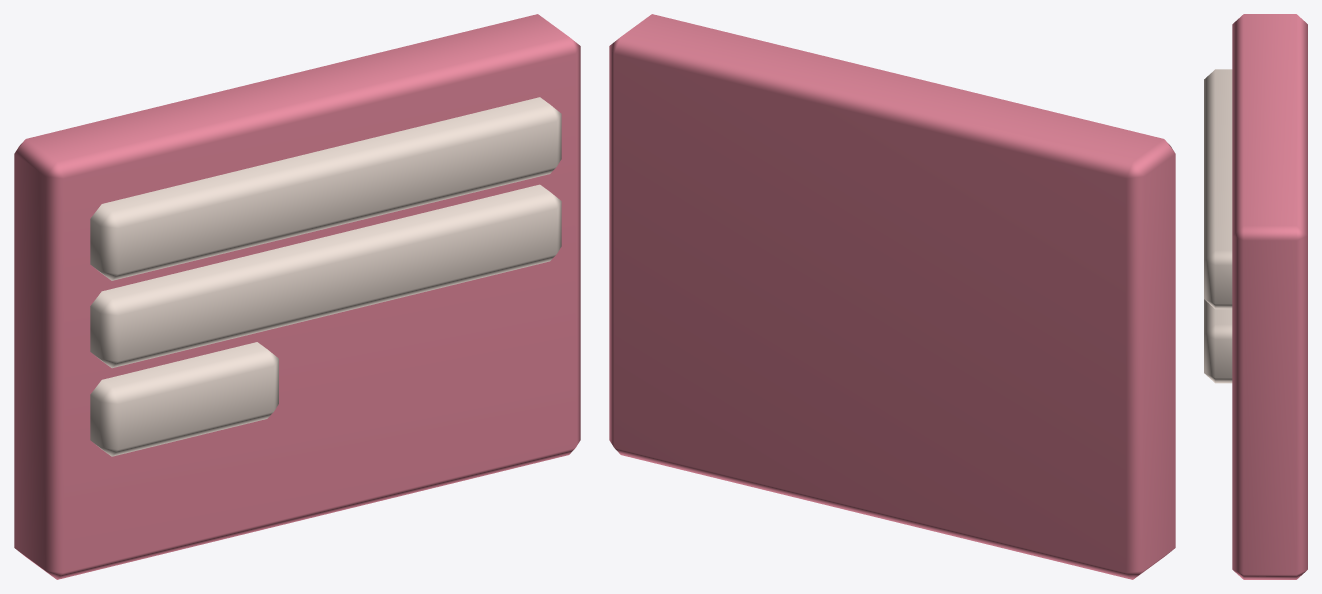
Rendered from Note_2.glb.
3 renders of one model, left to right at view 1: azimuth 30°, elevation 25°; view 2: azimuth 150°, elevation 25°; view 3: azimuth 270°, elevation 25°, orthographic. The views are drawn at different scales.
Parts seen in each view (by area): view 1: Note_2; view 2: Note_2; view 3: Note_2.
Boxes of the visible parts, x1,y1,x2,y2 form: Note_2: (14,14,580,579); Note_2: (609,14,1175,579); Note_2: (1204,14,1307,579).
Bounding box in the file's own units: 0.5806 × 0.4336 × 0.1151.
Materials: 1 (1 with a texture image).
